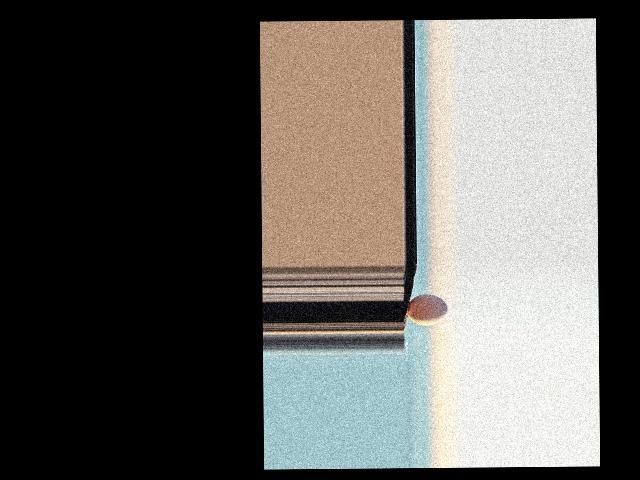egg: (407, 294, 447, 326)
